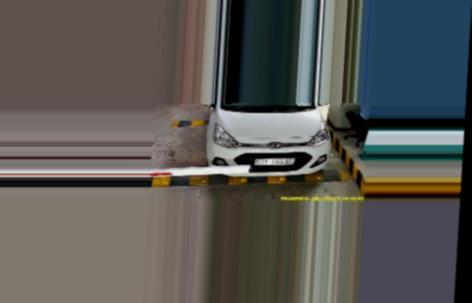License_Plate: (251, 156, 295, 168)
